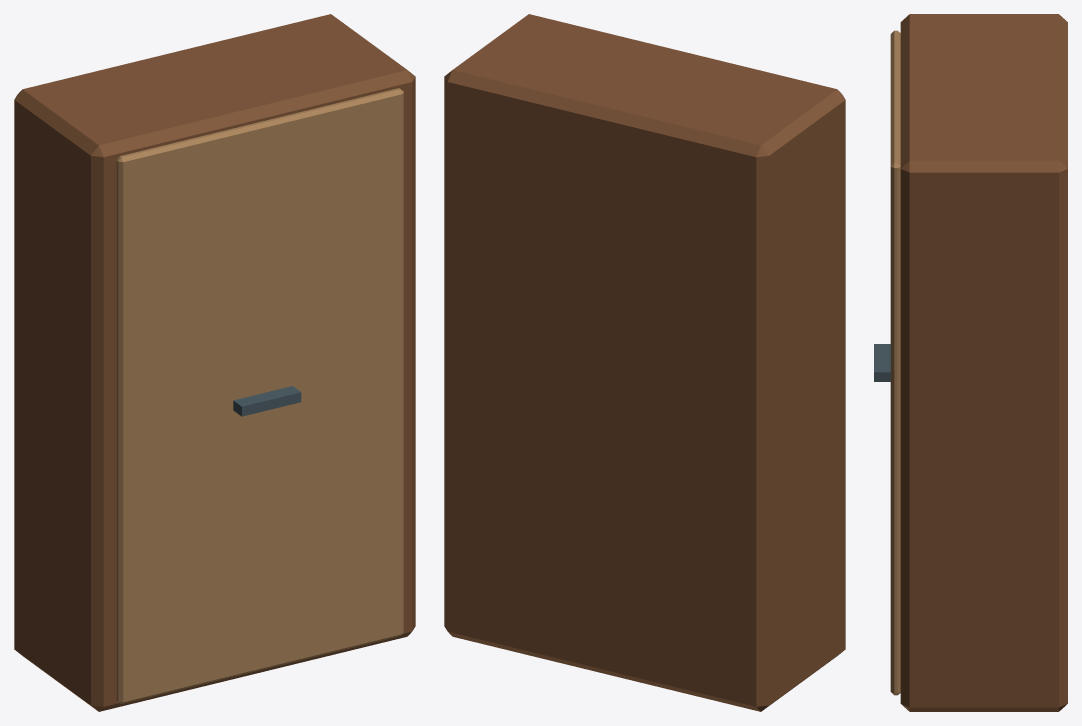
File: wardrobe.glb
The picture shows the model from 3 angles, left to right: view 1: azimuth 30°, elevation 25°; view 2: azimuth 150°, elevation 25°; view 3: azimuth 270°, elevation 25°; orthographic projection. The views are drawn at different scales.
Visible parts, largest first — view 1: wardrobe; view 2: wardrobe; view 3: wardrobe.
Part boxes in pixels (x1,y1,x2,y2): wardrobe: (14,14,415,711); wardrobe: (444,14,845,711); wardrobe: (874,14,1067,711).
Size of the model in its own units: 1.2 by 2 by 0.6375.
